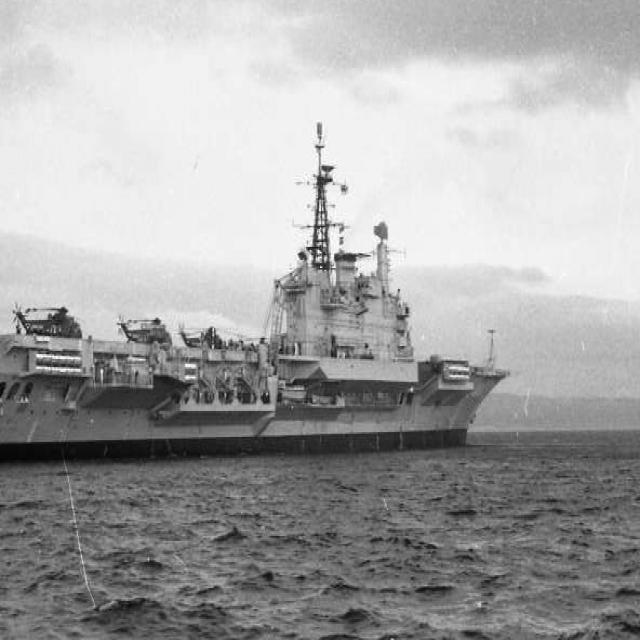Portanaves: (1, 115, 519, 459)
